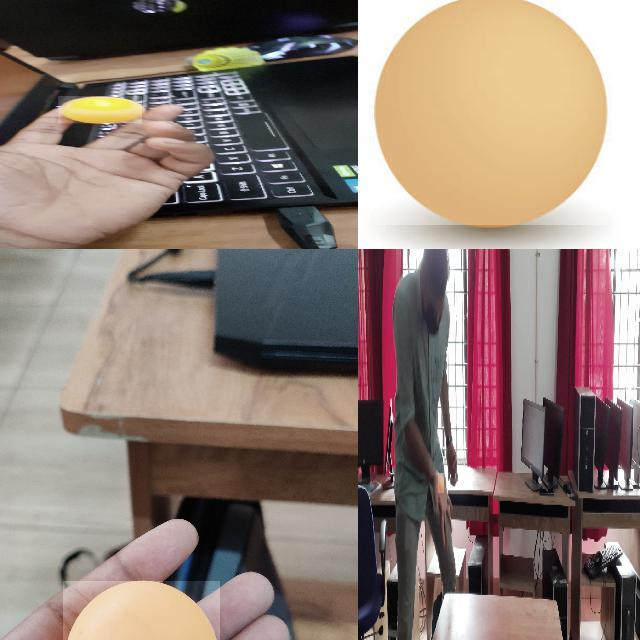ping-pong-ball: (375, 0, 609, 226), (63, 580, 222, 639), (58, 95, 143, 124), (438, 473, 444, 494)
